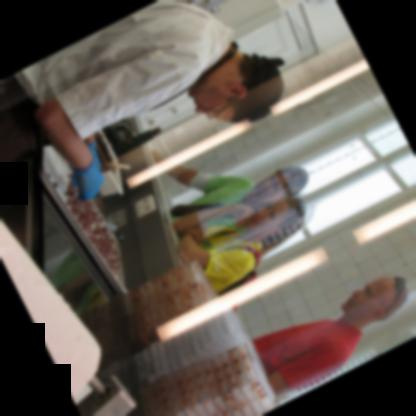backpack: (217, 263, 257, 311)
